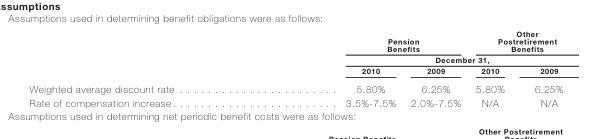table: (28, 28, 562, 108)
table column: (28, 28, 260, 108), (260, 28, 402, 108), (402, 28, 467, 108), (467, 28, 518, 108), (518, 28, 562, 108)
table column header: (28, 28, 562, 78)
table row: (28, 28, 562, 53), (28, 78, 562, 95), (28, 64, 562, 78), (28, 95, 562, 108), (28, 53, 562, 64)
table spanning cell: (260, 28, 467, 53), (260, 53, 562, 64), (467, 28, 562, 53)
